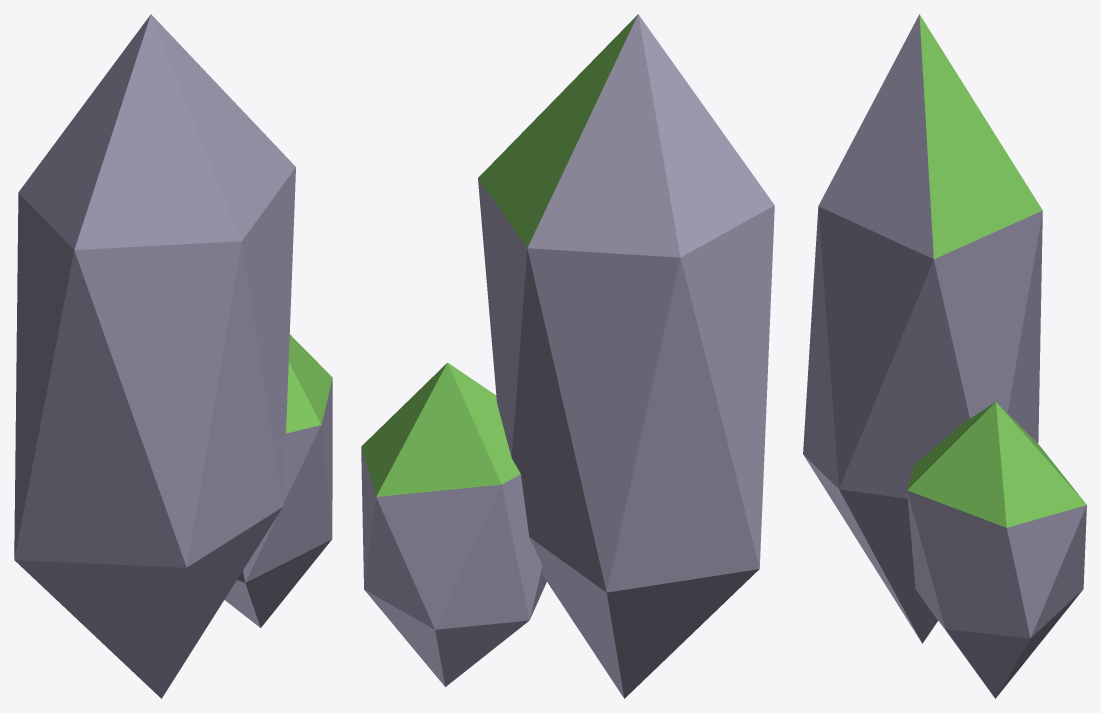
Rendered from rock_tall.glb.
The picture shows the model from 3 angles, left to right: view 1: azimuth 30°, elevation 25°; view 2: azimuth 150°, elevation 25°; view 3: azimuth 270°, elevation 25°; orthographic projection. The views are drawn at different scales.
Visible parts, largest first — view 1: rock_tall; view 2: rock_tall; view 3: rock_tall.
Part boxes in pixels (<box>): rock_tall: <box>14,14,332,698</box>; rock_tall: <box>361,14,774,698</box>; rock_tall: <box>803,14,1086,698</box>.
Bounding box in the file's own units: 1.58 × 2.9 × 1.19.
